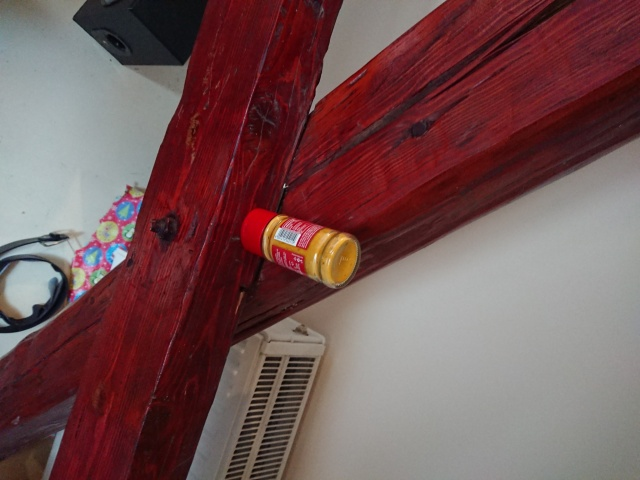Kotanyi Curry Spices Mix 70g: (239, 206, 364, 292)
